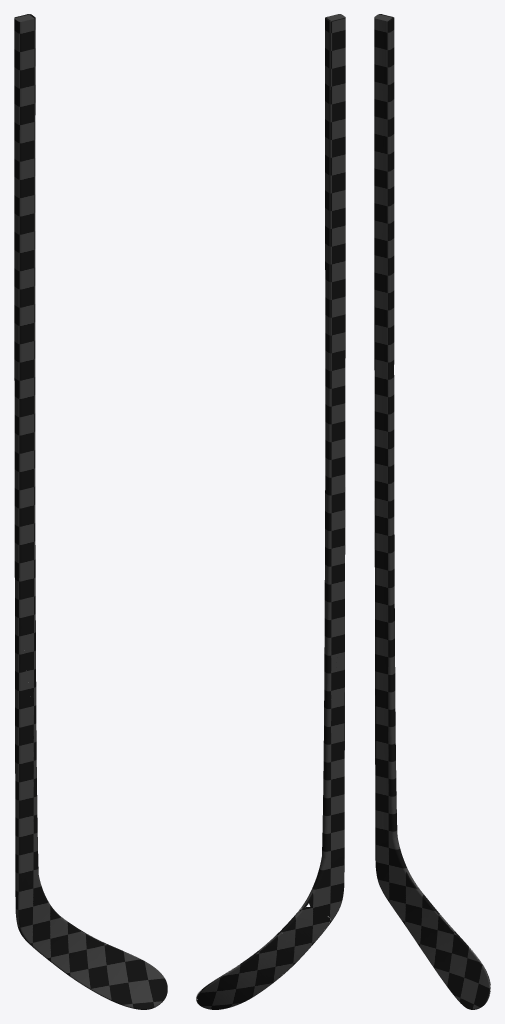
The model's file is P28-SBT.glb.
The picture shows the model from 3 angles, left to right: view 1: azimuth 30°, elevation 25°; view 2: azimuth 210°, elevation 25°; view 3: azimuth 330°, elevation 25°; orthographic projection. The views are drawn at different scales.
Visible parts, largest first — view 1: geometry_0; view 2: geometry_0; view 3: geometry_0.
Boxes of the visible parts, x1,y1,x2,y2 form: geometry_0: (14, 14, 167, 1009); geometry_0: (196, 14, 345, 1009); geometry_0: (374, 14, 490, 1009).
Size of the model in its own units: 232 by 1650 by 65.35.
1 material, 1 textured.
